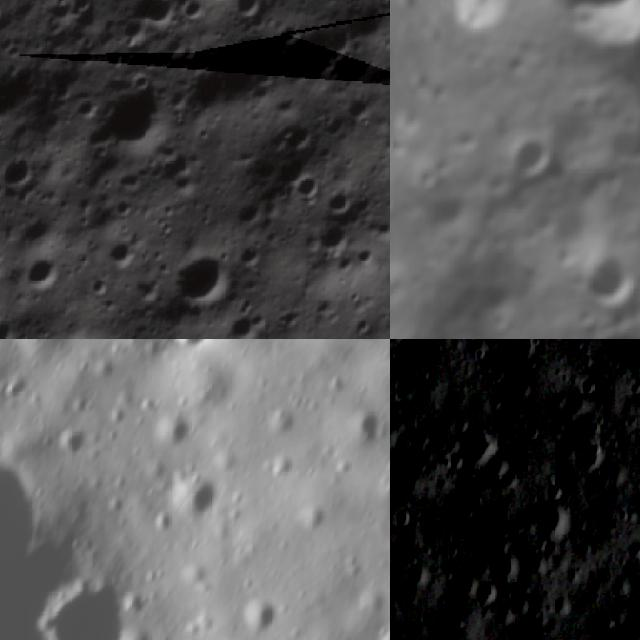crater: (8, 529, 190, 640), (0, 420, 73, 619), (82, 72, 192, 175), (514, 0, 640, 83), (156, 451, 238, 535), (566, 242, 640, 323), (412, 173, 490, 249), (225, 578, 298, 640), (173, 245, 240, 308), (500, 121, 562, 188), (148, 394, 211, 458), (46, 411, 106, 469), (122, 0, 191, 46), (597, 105, 640, 177), (452, 414, 503, 472), (524, 493, 576, 547), (22, 245, 72, 296), (390, 444, 436, 499), (0, 146, 44, 202), (520, 197, 569, 246), (343, 402, 390, 453), (561, 434, 609, 480), (0, 359, 39, 415), (483, 534, 523, 588), (155, 339, 226, 369), (494, 180, 539, 225), (507, 339, 547, 363), (619, 601, 640, 640), (363, 610, 390, 640), (392, 502, 416, 535), (390, 178, 406, 224)
